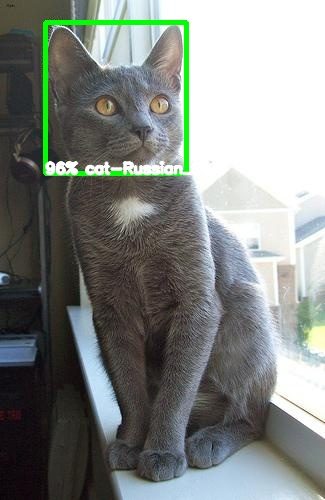cat-Russian_Blue: (45, 24, 181, 171)
